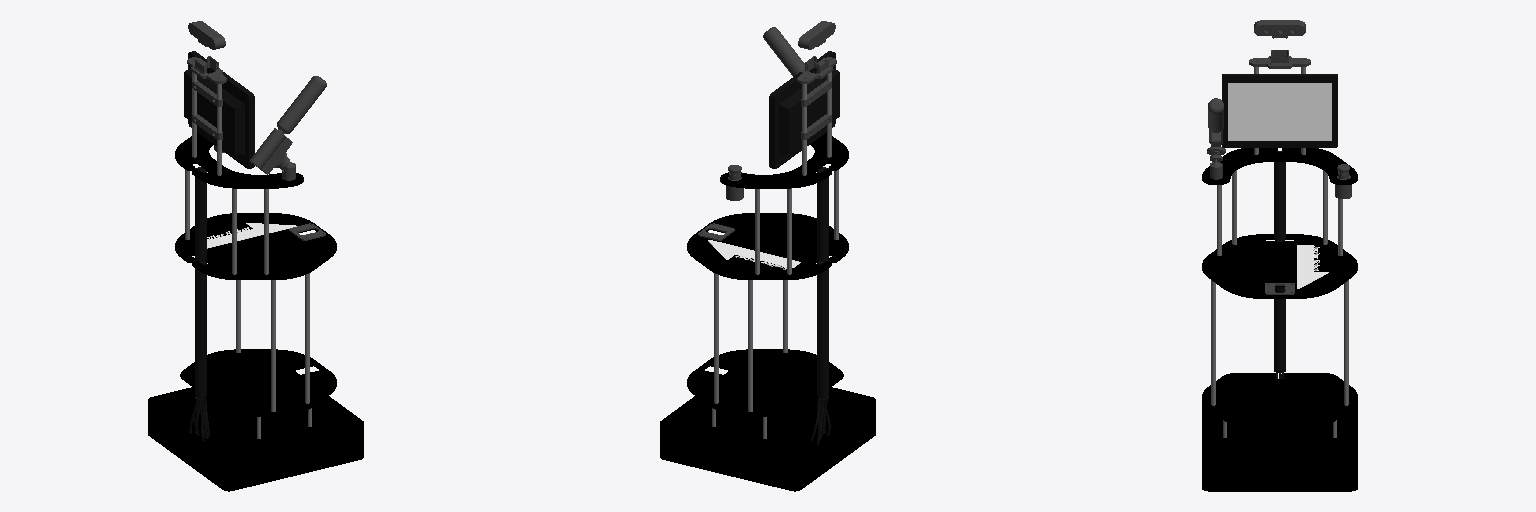
--- Facts derived from the render (not from the file) ---
Views: 3 orthographic renders of the robot side by side, from view 1: azimuth 30°, elevation 25°; view 2: azimuth 150°, elevation 25°; view 3: azimuth 270°, elevation 25°.
Robot: jupiter2_pro — 75 links, 74 joints (7 revolute, 2 continuous, 65 fixed); root link base_footprint; default pose: all joints at 0.
Links seen in each view (by area): view 1: base_link, plate_1_link, plate_2_link, monitor_link, mic_link, plate_3_link, pipe_300_link, pipe_200_link, arrow_link, pole_300_2_link, camera_link, pole_300_3_link (+2 smaller); view 2: base_link, plate_1_link, plate_2_link, monitor_link, plate_3_link, pipe_300_link, pipe_200_link, mic_link, arrow_link, pole_300_1_link, camera_link, pole_300_0_link (+1 smaller); view 3: base_link, plate_1_link, plate_2_link, screen_link, monitor_link, plate_3_link, mic_link, pipe_200_link, pipe_300_link, arrow_link, camera_link, head_mount_link (+2 smaller).
Boxes of the visible links, x1,y1,x2,y2 form: base_link: (148, 371, 363, 491); plate_1_link: (180, 349, 336, 416); plate_2_link: (175, 213, 336, 279); monitor_link: (184, 51, 254, 168); mic_link: (250, 76, 326, 180); plate_3_link: (175, 132, 303, 188); pipe_300_link: (195, 260, 206, 397); pipe_200_link: (195, 167, 206, 260); arrow_link: (207, 223, 296, 248); pole_300_2_link: (271, 280, 275, 411); camera_link: (188, 21, 225, 49); pole_300_3_link: (305, 273, 309, 403); base_link: (660, 371, 875, 491); plate_1_link: (687, 349, 843, 416); plate_2_link: (687, 213, 848, 279); monitor_link: (769, 51, 839, 168); plate_3_link: (720, 132, 848, 188); pipe_300_link: (817, 260, 828, 397); pipe_200_link: (817, 167, 828, 260); mic_link: (763, 27, 804, 76); arrow_link: (708, 240, 800, 269); pole_300_1_link: (748, 280, 752, 411); camera_link: (798, 21, 835, 49); pole_300_0_link: (714, 273, 718, 403); base_link: (1202, 402, 1357, 491); plate_1_link: (1202, 373, 1357, 429); plate_2_link: (1202, 234, 1357, 298); screen_link: (1228, 83, 1331, 140); monitor_link: (1222, 74, 1337, 147); plate_3_link: (1202, 148, 1357, 184); mic_link: (1207, 98, 1225, 179); pipe_200_link: (1274, 151, 1285, 241); pipe_300_link: (1274, 287, 1285, 372); arrow_link: (1297, 245, 1328, 288); camera_link: (1254, 20, 1305, 38); head_mount_link: (1249, 50, 1310, 68).
Size in the robot's own frame: 0.331 by 0.33 by 0.976 metres.
Meshes: 35 distinct files referenced, 37 mesh visuals loaded (22 binary STL); not drawn: 28 (reference not matched to a file when rendering).

URDF robot description (jupiter2_pro):
<?xml version="1.0" ?>
<!-- =================================================================================== -->
<!-- |    This document was autogenerated by xacro from [local-path]/catkin_ws/src/jupiterobot2/jupiterobot2_description/urdf/jupiter2_pro.urdf.xacro | -->
<!-- |    EDITING THIS FILE BY HAND IS NOT RECOMMENDED                                 | -->
<!-- =================================================================================== -->
<robot name="jupiter2_pro">
    <!-- Init colour -->
    <material name="Black">
        <color rgba="0.0 0.0 0.0 1.0" />
    </material>
    <material name="FlatBlack">
        <color rgba="0.1 0.1 0.1 1.0" />
    </material>
    <material name="DarkGrey">
        <color rgba="0.3 0.3 0.3 1.0" />
    </material>
    <material name="Grey">
        <color rgba="0.5 0.5 0.5 1.0" />
    </material>
    <material name="Red">
        <color rgba="0.8 0.0 0.0 1.0" />
    </material>
    <material name="Green">
        <color rgba="0.0 0.8 0.0 1.0" />
    </material>
    <material name="Blue">
        <color rgba="0.0 0.0 0.8 1.0" />
    </material>
    <material name="White">
        <color rgba="1.0 1.0 1.0 1.0" />
    </material>
    <gazebo reference="base_link">
        <material>Gazebo/Black</material>
        <plugin name="gazebo_ros_control">
            <robotNamespace>/</robotNamespace>
        </plugin>
    </gazebo>
    <gazebo reference="wheel_left_link">
        <mu1>1</mu1>
        <mu2>1</mu2>
        <kp>1e6</kp>
        <kd>1e3</kd>
        <minDepth>0.001</minDepth>
        <maxVel>1</maxVel>
        <material>Gazebo/FlatBlack</material>
    </gazebo>
    <gazebo reference="wheel_right_link">
        <mu1>1</mu1>
        <mu2>1</mu2>
        <kp>1e6</kp>
        <kd>1e3</kd>
        <minDepth>0.001</minDepth>
        <maxVel>1</maxVel>
        <material>Gazebo/FlatBlack</material>
    </gazebo>
    <gazebo reference="caster_back_right_link">
        <mu1>0.01</mu1>
        <mu2>0.01</mu2>
        <kp>1e6</kp>
        <kd>1e3</kd>
        <minDepth>0.001</minDepth>
        <maxVel>1</maxVel>
        <material>Gazebo/Grey</material>
    </gazebo>
    <gazebo reference="caster_back_left_link">
        <mu1>0.01</mu1>
        <mu2>0.01</mu2>
        <kp>1e6</kp>
        <kd>1e3</kd>
        <minDepth>0.001</minDepth>
        <maxVel>1</maxVel>
        <material>Gazebo/Grey</material>
    </gazebo>
    <gazebo reference="imu_link">
        <sensor name="imu" type="imu">
            <always_on>true</always_on>
            <visualize>false</visualize>
        </sensor>
        <material>Gazebo/Grey</material>
    </gazebo>
    <gazebo reference="plate_1_link">
        <material>Gazebo/Black</material>
    </gazebo>
    <gazebo reference="plate_2_link">
        <material>Gazebo/Black</material>
    </gazebo>
    <gazebo reference="plate_3_link">
        <material>Gazebo/Black</material>
    </gazebo>
    <gazebo reference="arrow_link">
        <material>Gazebo/White</material>
    </gazebo>
    <gazebo reference="mic_link">
        <material>Gazebo/DarkGrey</material>
    </gazebo>
    <gazebo reference="estop_link">
        <material>Gazebo/DarkGrey</material>
    </gazebo>
    <gazebo reference="monitor_frame_1_link">
        <material>Gazebo/DarkGrey</material>
    </gazebo>
    <gazebo reference="monitor_frame_2_link">
        <material>Gazebo/DarkGrey</material>
    </gazebo>
    <gazebo reference="monitor_link">
        <material>Gazebo/FlatBlack</material>
    </gazebo>
    <gazebo reference="screen_link">
        <material>Gazebo/WhiteGlow</material>
    </gazebo>
    <gazebo reference="arm_mount_link">
        <material>Gazebo/DarkGrey</material>
    </gazebo>
    <gazebo reference="head_mount_link">
        <material>Gazebo/DarkGrey</material>
    </gazebo>
    <gazebo reference="pipe_200_link">
        <material>Gazebo/BlackTransparent</material>
    </gazebo>
    <gazebo reference="pipe_300_link">
        <material>Gazebo/BlackTransparent</material>
    </gazebo>
    <gazebo reference="cables_link">
        <material>Gazebo/BlackTransparent</material>
    </gazebo>
    <gazebo>
        <plugin filename="libgazebo_ros_diff_drive.so" name="jupiter2_controller">
            <commandTopic>cmd_vel</commandTopic>
            <odometryTopic>odom</odometryTopic>
            <odometryFrame>odom</odometryFrame>
            <odometrySource>world</odometrySource>
            <publishOdomTF>true</publishOdomTF>
            <robotBaseFrame>base_footprint</robotBaseFrame>
            <publishWheelTF>false</publishWheelTF>
            <publishTf>true</publishTf>
            <publishWheelJointState>true</publishWheelJointState>
            <legacyMode>false</legacyMode>
            <updateRate>30</updateRate>
            <leftJoint>wheel_left_joint</leftJoint>
            <rightJoint>wheel_right_joint</rightJoint>
            <wheelSeparation>0.287</wheelSeparation>
            <wheelDiameter>0.066</wheelDiameter>
            <wheelAcceleration>1</wheelAcceleration>
            <wheelTorque>10</wheelTorque>
            <rosDebugLevel>na</rosDebugLevel>
        </plugin>
    </gazebo>
    <gazebo>
        <plugin filename="libgazebo_ros_imu.so" name="imu_plugin">
            <alwaysOn>true</alwaysOn>
            <bodyName>imu_link</bodyName>
            <frameName>imu_link</frameName>
            <topicName>imu</topicName>
            <serviceName>imu_service</serviceName>
            <gaussianNoise>0.0</gaussianNoise>
            <updateRate>0</updateRate>
            <imu>
                <noise>
                    <type>gaussian</type>
                    <rate>
                        <mean>0.0</mean>
                        <stddev>2e-4</stddev>
                        <bias_mean>0.0000075</bias_mean>
                        <bias_stddev>0.0000008</bias_stddev>
                    </rate>
                    <accel>
                        <mean>0.0</mean>
                        <stddev>1.7e-2</stddev>
                        <bias_mean>0.1</bias_mean>
                        <bias_stddev>0.001</bias_stddev>
                    </accel>
                </noise>
            </imu>
        </plugin>
    </gazebo>
    <gazebo reference="base_scan">
        <material>Gazebo/FlatBlack</material>
        <sensor name="rplidar_a1_sensor" type="ray">
            <pose>0 0 0 0 0 0</pose>
            <visualize>false</visualize>
            <update_rate>5.5</update_rate>
            <ray>
                <scan>
                    <horizontal>
                        <samples>360</samples>
                        <resolution>1</resolution>
                        <min_angle>-3.14159265359</min_angle>
                        <max_angle>3.14159265359</max_angle>
                    </horizontal>
                </scan>
                <range>
                    <min>0.18</min>
                    <max>6.0</max>
                    <resolution>0.01</resolution>
                </range>
                <noise>
                    <type>gaussian</type>
                    <mean>0.0</mean>
                    <stddev>0.01</stddev>
                </noise>
            </ray>
            <plugin filename="libgazebo_ros_laser.so" name="gazebo_ros_rplidar_a1_controller">
                <topicName>scan</topicName>
                <frameName>base_scan</frameName>
            </plugin>
        </sensor>
    </gazebo>
    <gazebo reference="camera_link">
        <sensor name="camera" type="depth">
            <always_on>true</always_on>
            <visualize>false</visualize>
            <update_rate>20.0</update_rate>
            <camera>
                <horizontal_fov>1.0472</horizontal_fov>
                <image>
                    <width>640</width>
                    <height>480</height>
                    <format>R8G8B8</format>
                </image>
                <depth_camera />
                <clip>
                    <near>0.05</near>
                    <far>8.0</far>
                </clip>
            </camera>
            <plugin filename="libgazebo_ros_openni_kinect.so" name="camera_controller">
                <baseline>0.1</baseline>
                <alwaysOn>true</alwaysOn>
                <updateRate>20.0</updateRate>
                <cameraName>camera</cameraName>
                <frameName>camera_depth_optical_frame</frameName>
                <imageTopicName>color/image_raw</imageTopicName>
                <depthImageTopicName>depth/image_raw</depthImageTopicName>
                <pointCloudTopicName>depth/points</pointCloudTopicName>
                <cameraInfoTopicName>color/camera_info</cameraInfoTopicName>
                <depthImageCameraInfoTopicName>depth/camera_info</depthImageCameraInfoTopicName>
                <pointCloudCutoff>0.4</pointCloudCutoff>
                <hackBaseline>0.07</hackBaseline>
                <distortionK1>0.0</distortionK1>
                <distortionK2>0.0</distortionK2>
                <distortionK3>0.0</distortionK3>
                <distortionT1>0.0</distortionT1>
                <distortionT2>0.0</distortionT2>
                <CxPrime>0.0</CxPrime>
                <Cx>0.0</Cx>
                <Cy>0.0</Cy>
                <focalLength>0</focalLength>
                <hackBaseline>0</hackBaseline>
            </plugin>
        </sensor>
    </gazebo>
    <joint name="head_base_joint" type="fixed">
        <origin xyz="0.0 0.0 0.076" />
        <parent link="head_mount_link" />
        <child link="head_base_link" />
    </joint>
    <link name="head_base_link" />
    <joint name="head_servo_joint" type="fixed">
        <origin rpy="0 0 0" xyz="0 0 -0.041499999999999995" />
        <parent link="head_base_link" />
        <child link="head_servo_link" />
    </joint>
    <link name="head_servo_link">
        <visual>
            <origin rpy="0 0 0" xyz="0 0 0" />
            <geometry>
                <mesh filename="package://jupiterobot2_head_description/meshes/ax12_box.stl" scale="0.001 0.001 0.001" />
            </geometry>
            <material name="Black" />
        </visual>
        <collision>
            <origin rpy="0 0 0" xyz="0.0 0.0 -0.01241" />
            <geometry>
                <box size="0.025 0.038 0.04762" />
            </geometry>
        </collision>
        <inertial>
            <origin xyz="0 0 0" rpy="0 0 0" />
            <mass value="0.055" />
            <inertia ixx="0.000017012" ixy="0.0" ixz="0.0" iyy="0.000013258" iyz="0.0" izz="0.000009483" />
        </inertial>
    </link>
    <gazebo reference="head_servo_link">
        <material>Gazebo/Black</material>
        <selfCollide>true</selfCollide>
        <gravity>true</gravity>
    </gazebo>
    <joint name="head_joint" type="revolute">
        <origin rpy="0 0 0" xyz="0 0 0" />
        <axis xyz="0 1 0" />
        <limit effort="30" lower="-1.5" upper="1.5" velocity="1.571" />
        <dynamics friction="0.13" />
        <parent link="head_servo_link" />
        <child link="head_link" />
    </joint>
    <link name="head_link">
        <visual>
            <origin rpy="0 0 0" xyz="0 0 0" />
            <geometry>
                <mesh filename="package://jupiterobot2_head_description/meshes/F2.stl" scale="0.001 0.001 0.001" />
            </geometry>
            <material name="White" />
        </visual>
        <collision>
            <origin rpy="0 0 0" xyz="0.0 0.0 0.00775" />
            <geometry>
                <box size="0.025 0.0485 0.0375" />
            </geometry>
        </collision>
        <inertial>
            <origin xyz="0 0 0.015" rpy="0 0 0" />
            <!--0.025*0.048*0.0375-->
            <mass value="0.0115" />
            <inertia ixx="3.55565625e-06" ixy="0.0" ixz="0.0" iyy="1.946614583e-06" iyz="0.0" izz="2.80695833e-06" />
        </inertial>
    </link>
    <gazebo reference="head_link">
        <material>Gazebo/White</material>
        <selfCollide>true</selfCollide>
        <gravity>true</gravity>
    </gazebo>
    <joint name="head_plate_joint" type="fixed">
        <origin rpy="0 3.14159265359 0" xyz="0 0 0.0265" />
        <parent link="head_link" />
        <child link="head_plate_link" />
    </joint>
    <link name="head_plate_link">
        <visual>
            <origin rpy="0 0 0" xyz="0 0 0" />
            <geometry>
                <mesh filename="package://jupiterobot2_head_description/meshes/F3.stl" scale="0.001 0.001 0.001" />
            </geometry>
            <material name="White" />
        </visual>
        <collision>
            <origin rpy="0 0 0" xyz="0.0 0.0 -0.0045" />
            <geometry>
                <box size="0.025 0.038 0.009" />
            </geometry>
        </collision>
        <inertial>
            <origin xyz="0 0 -0.004" rpy="0 0 0" />
            <!--0.025*0.038*0.008-->
            <mass value="0.005" />
            <inertia ixx="6.2833e-07" ixy="0.0" ixz="0.0" iyy="2.870833e-07" iyz="0.0" izz="8.620833e-07" />
        </inertial>
    </link>
    <gazebo reference="head_plate_link">
        <material>Gazebo/White</material>
        <selfCollide>true</selfCollide>
        <gravity>true</gravity>
    </gazebo>
    <joint name="camera_joint" type="fixed">
        <origin rpy="0 3.14159265359 0" xyz="-0.0125 0 -0.0215" />
        <parent link="head_plate_link" />
        <child link="camera_link" />
    </joint>
    <link name="camera_link">
        <visual>
            <origin rpy="0 0 0" xyz="0 0 0" />
            <geometry>
                <mesh filename="package://jupiterobot2_head_description/meshes/camera.stl" scale="0.001 0.001 0.001" />
            </geometry>
            <material name="DarkGrey" />
        </visual>
        <collision>
            <origin rpy="0 0 0" xyz="-0.0125 0 0" />
            <geometry>
                <box size="0.025 0.109 0.025" />
            </geometry>
        </collision>
        <inertial>
            <origin rpy="0 0 0" xyz="-0.0125 0 0" />
            <mass value="0.06" />
            <inertia ixx="6.253e-05" ixy="0.0" ixz="0.0" iyy="6.25e-06" iyz="0.0" izz="6.253e-05" />
        </inertial>
    </link>
    <gazebo reference="camera_link">
        <material>Gazebo/DarkGrey</material>
        <selfCollide>true</selfCollide>
        <gravity>true</gravity>
    </gazebo>
    <joint name="camera_color_joint" type="fixed">
        <origin rpy="0 0 0" xyz="0.0 -0.009 0.0" />
        <parent link="camera_link" />
        <child link="camera_color_frame" />
    </joint>
    <link name="camera_color_frame" />
    <joint name="camera_color_optical_joint" type="fixed">
        <origin rpy="-1.570796326795 0 -1.570796326795" xyz="0 0 0" />
        <parent link="camera_color_frame" />
        <child link="camera_color_optical_frame" />
    </joint>
    <link name="camera_color_optical_frame" />
    <joint name="camera_depth_joint" type="fixed">
        <origin rpy="0 0 0" xyz="0.0 -0.008 0.0" />
        <parent link="camera_link" />
        <child link="camera_depth_frame" />
    </joint>
    <link name="camera_depth_frame" />
    <joint name="camera_depth_optical_joint" type="fixed">
        <origin rpy="-1.570796326795 0 -1.570796326795" xyz="0 0 0" />
        <parent link="camera_depth_frame" />
        <child link="camera_depth_optical_frame" />
    </joint>
    <link name="camera_depth_optical_frame" />
    <transmission name="tran6">
        <type>transmission_interface/SimpleTransmission</type>
        <joint name="head_joint">
            <hardwareInterface>hardware_interface/PositionJointInterface</hardwareInterface>
        </joint>
        <actuator name="motor6">
            <hardwareInterface>hardware_interface/PositionJointInterface</hardwareInterface>
            <mechanicalReduction>1</mechanicalReduction>
        </actuator>
    </transmission>
    <!-- ros_control plugin -->
    <!-- <gazebo>
    <plugin name="gazebo_ros_control" filename="libgazebo_ros_control.so">
      <controlPeriod>0.001</controlPeriod>
      <robotNamespace>/</robotNamespace>
      <robotSimType>gazebo_ros_control/DefaultRobotHWSim</robotSimType>
      <legacyModeNS>true</legacyModeNS>
    </plugin>
  </gazebo> -->
    <!-- As we don't have here a robot base, add a base_link link as its location reference -->
    <!--link name="arm_mount_link"/-->
    <link name="arm_base_link" />
    <joint name="arm_base_joint" type="fixed">
        <origin xyz="0.0 0.0 -0.015" />
        <parent link="arm_mount_link" />
        <child link="arm_base_link" />
    </joint>
    <joint name="arm1_servo_joint" type="fixed">
        <origin rpy="1.570796326795 0 1.570796326795" xyz="0 0 0" />
        <parent link="arm_base_link" />
        <child link="arm1_servo_link" />
    </joint>
    <link name="arm1_servo_link">
        <visual>
            <origin rpy="0 0 0" xyz="0 0 0" />
            <geometry>
                <mesh filename="package://jupiterobot2_arm_description/meshes/ax12_box.stl" scale="0.001 0.001 0.001" />
            </geometry>
            <material name="Black" />
        </visual>
        <collision>
            <origin rpy="0 0 0" xyz="0.0 0.0 -0.01241" />
            <geometry>
                <box size="0.025 0.038 0.04762" />
            </geometry>
        </collision>
        <inertial>
            <origin xyz="0 0 0" rpy="0 0 0" />
            <mass value="0.055" />
            <inertia ixx="0.000017012" ixy="0.0" ixz="0.0" iyy="0.000013258" iyz="0.0" izz="0.000009483" />
        </inertial>
    </link>
    <gazebo reference="arm1_servo_link">
        <material>Gazebo/Black</material>
        <selfCollide>true</selfCollide>
        <gravity>true</gravity>
    </gazebo>
    <joint name="arm1_joint" type="revolute">
        <origin rpy="-1.570796326795 1.570796326795 3.14159265359" xyz="0 0.019 0" />
        <axis xyz="0 0 -1" />
        <limit effort="30" lower="-2.617" upper="2.617" velocity="1.571" />
        <dynamics friction="0.13" />
        <parent link="arm1_servo_link" />
        <child link="arm1_link" />
    </joint>
    <link name="arm1_link">
        <visual>
            <origin rpy="0 0 0" xyz="0 0 0" />
            <geometry>
                <mesh filename="package://jupiterobot2_arm_description/meshes/F3.stl" scale="0.001 0.001 0.001" />
            </geometry>
            <material name="White" />
        </visual>
        <collision>
            <origin rpy="0 0 0" xyz="0.0 0.0 -0.0045" />
            <geometry>
                <box size="0.025 0.038 0.009" />
            </geometry>
        </collision>
        <inertial>
            <origin xyz="0 0 -0.004" rpy="0 0 0" />
            <!--0.025*0.038*0.008-->
            <mass value="0.005" />
            <inertia ixx="6.2833e-07" ixy="0.0" ixz="0.0" iyy="2.870833e-07" iyz="0.0" izz="8.620833e-07" />
        </inertial>
    </link>
    <gazebo reference="arm1_link">
        <material>Gazebo/White</material>
        <selfCollide>true</selfCollide>
        <gravity>true</gravity>
    </gazebo>
    <joint name="arm2_servo_joint" type="fixed">
        <origin rpy="0 3.14159265359 0" xyz="0 0 -0.041499999999999995" />
        <parent link="arm1_link" />
        <child link="arm2_servo_link" />
    </joint>
    <link name="arm2_servo_link">
        <visual>
            <origin rpy="0 0 0" xyz="0 0 0" />
            <geometry>
                <mesh filename="package://jupiterobot2_arm_description/meshes/ax12_box.stl" scale="0.001 0.001 0.001" />
            </geometry>
            <material name="Black" />
        </visual>
        <collision>
            <origin rpy="0 0 0" xyz="0.0 0.0 -0.01241" />
            <geometry>
                <box size="0.025 0.038 0.04762" />
            </geometry>
        </collision>
        <inertial>
            <origin xyz="0 0 0" rpy="0 0 0" />
            <mass value="0.055" />
            <inertia ixx="0.000017012" ixy="0.0" ixz="0.0" iyy="0.000013258" iyz="0.0" izz="0.000009483" />
        </inertial>
    </link>
    <gazebo reference="arm2_servo_link">
        <material>Gazebo/Black</material>
        <selfCollide>true</selfCollide>
        <gravity>true</gravity>
    </gazebo>
    <joint name="arm2_joint" type="revolute">
        <origin rpy="0 0 0" xyz="0 0 0" />
        <axis xyz="0 1 0" />
        <limit effort="30" lower="-2.617" upper="2.617" velocity="1.571" />
        <dynamics friction="0.13" />
        <parent link="arm2_servo_link" />
        <child link="arm2_link" />
    </joint>
    <link name="arm2_link">
        <visual>
            <origin rpy="0 0 0" xyz="0 0 0" />
            <geometry>
                <mesh filename="package://jupiterobot2_arm_description/meshes/F4.stl" scale="0.001 0.001 0.001" />
            </geometry>
            <material name="White" />
        </visual>
        <collision>
            <origin rpy="0 0 0" xyz="0.0 0.0 0.0215" />
            <geometry>
                <box size="0.028 0.0485 0.065" />
            </geometry>
        </collision>
        <inertial>
            <origin xyz="0 0 0.03" rpy="0 0 0" />
            <!--0.028*0.048*0.0635-->
            <mass value="0.019" />
            <inertia ixx="1.003239583e-05" ixy="0.0" ixz="0.0" iyy="7.625729167e-06" iyz="0.0" izz="4.88933e-06" />
        </inertial>
    </link>
    <gazebo reference="arm2_link">
        <material>Gazebo/White</material>
        <selfCollide>true</selfCollide>
        <gravity>true</gravity>
    </gazebo>
    <joint name="arm2_F10_1_joint" type="fixed">
        <origin rpy="0 0 0" xyz="0 0 0.0545" />
        <parent link="arm2_link" />
        <child link="arm2_F10_1_link" />
    </joint>
    <link name="arm2_F10_1_link">
        <visual>
            <origin rpy="0 0 0" xyz="0 0 0" />
            <geometry>
                <mesh filename="package://jupiterobot2_arm_description/meshes/F10.stl" scale="0.001 0.001 0.001" />
            </geometry>
            <material name="White" />
        </visual>
        <collision>
            <origin rpy="0 0 0" xyz="0.0 0.0 0.0" />
            <geometry>
                <box size="0.025 0.038 0.004" />
            </geometry>
        </collision>
        <inertial>
            <origin xyz="0 0 0" rpy="0 0 0" />
            <!--0.025*0.038*0.004-->
            <mass value="0.0033" />
            <inertia ixx="4.015e-07" ixy="0.0" ixz="0.0" iyy="1.76275e-07" iyz="0.0" izz="5.68975e-07" />
        </inertial>
    </link>
    <gazebo reference="arm2_F10_1_link">
        <material>Gazebo/White</material>
        <selfCollide>true</selfCollide>
        <gravity>true</gravity>
    </gazebo>
    <joint name="arm2_F10_2_joint" type="fixed">
        <origin rpy="0 0 0" xyz="0 0 0.004" />
        <parent link="arm2_F10_1_link" />
        <child link="arm2_F10_2_link" />
    </joint>
    <link name="arm2_F10_2_link">
        <visual>
            <origin rpy="0 0 0" xyz="0 0 0" />
            <geometry>
                <mesh filename="package://jupiterobot2_arm_description/meshes/F10.stl" scale="0.001 0.001 0.001" />
            </geometry>
            <material name="White" />
        </visual>
        <collision>
            <origin rpy="0 0 0" xyz="0.0 0.0 0.0" />
            <geometry>
                <box size="0.025 0.038 0.004" />
            </geometry>
        </collision>
        <inertial>
            <origin xyz="0 0 0" rpy="0 0 0" />
            <!--0.025*0.038*0.004-->
            <mass value="0.0033" />
            <inertia ixx="4.015e-07" ixy="0.0" ixz="0.0" iyy="1.76275e-07" iyz="0.0" izz="5.68975e-07" />
        </inertial>
    </link>
    <gazebo reference="arm2_F10_2_link">
        <material>Gazebo/White</material>
        <selfCollide>true</selfCollide>
        <gravity>true</gravity>
    </gazebo>
    <joint name="arm2_F10_3_joint" type="fixed">
        <origin rpy="0 0 0" xyz="0 0 0.004" />
        <parent link="arm2_F10_2_link" />
        <child link="arm2_F10_3_link" />
    </joint>
    <link name="arm2_F10_3_link">
        <visual>
            <origin rpy="0 0 0" xyz="0 0 0" />
            <geometry>
                <mesh filename="package://jupiterobot2_arm_description/meshes/F10.stl" scale="0.001 0.001 0.001" />
            </geometry>
            <material name="White" />
        </visual>
        <collision>
            <origin rpy="0 0 0" xyz="0.0 0.0 0.0" />
            <geometry>
                <box size="0.025 0.038 0.004" />
            </geometry>
        </collision>
        <inertial>
            <origin xyz="0 0 0" rpy="0 0 0" />
            <!--0.025*0.038*0.004-->
            <mass value="0.0033" />
            <inertia ixx="4.015e-07" ixy="0.0" ixz="0.0" iyy="1.76275e-07" iyz="0.0" izz="5.68975e-07" />
        </inertial>
    </link>
    <gazebo reference="arm2_F10_3_link">
        <material>Gazebo/White</material>
        <selfCollide>true</selfCollide>
        <gravity>true</gravity>
    </gazebo>
    <joint name="arm2_F3_joint" type="fixed">
        <origin rpy="0 3.14159265359 0" xyz="0 0 0.002" />
        <parent link="arm2_F10_3_link" />
        <child link="arm2_F3_link" />
    </joint>
    <link name="arm2_F3_link">
        <visual>
            <origin rpy="0 0 0" xyz="0 0 0" />
            <geometry>
                <mesh filename="package://jupiterobot2_arm_description/meshes/F3.stl" scale="0.001 0.001 0.001" />
            </geometry>
            <material name="White" />
        </visual>
        <collision>
            <origin rpy="0 0 0" xyz="0.0 0.0 -0.0045" />
            <geometry>
                <box size="0.025 0.038 0.009" />
            </geometry>
        </collision>
        <inertial>
            <origin xyz="0 0 -0.004" rpy="0 0 0" />
            <!--0.025*0.038*0.008-->
            <mass value="0.005" />
            <inertia ixx="6.2833e-07" ixy="0.0" ixz="0.0" iyy="2.870833e-07" iyz="0.0" izz="8.620833e-07" />
        </inertial>
    </link>
    <gazebo reference="arm2_F3_link">
        <material>Gazebo/White</material>
        <selfCollide>true</selfCollide>
        <gravity>true</gravity>
    </gazebo>
    <joint name="arm3_servo_joint" type="fixed">
        <origin rpy="0 3.14159265359 0" xyz="0 0 -0.041499999999999995" />
        <parent link="arm2_F3_link" />
        <child link="arm3_servo_link" />
    </joint>
    <link name="arm3_servo_link">
        <visual>
            <origin rpy="0 0 0" xyz="0 0 0" />
            <geometry>
                <mesh filename="package://jupiterobot2_arm_description/meshes/ax12_box.stl" scale="0.001 0.001 0.001" />
            </geometry>
            <material name="Black" />
        </visual>
        <collision>
            <origin rpy="0 0 0" xyz="0.0 0.0 -0.01241" />
            <geometry>
                <box size="0.025 0.038 0.04762" />
            </geometry>
        </collision>
        <inertial>
            <origin xyz="0 0 0" rpy="0 0 0" />
            <mass value="0.055" />
            <inertia ixx="0.000017012" ixy="0.0" ixz="0.0" iyy="0.000013258" iyz="0.0" izz="0.000009483" />
        </inertial>
    </link>
    <gazebo reference="arm3_servo_link">
        <material>Gazebo/Black</material>
        <selfCollide>true</selfCollide>
        <gravity>true</gravity>
    </gazebo>
    <joint name="arm3_joint" type="revolute">
        <origin rpy="0 0 0" xyz="0 0 0" />
        <axis xyz="0 1 0" />
        <limit effort="30" lower="-2.617" upper="2.617" velocity="1.571" />
        <dynamics friction="0.13" />
        <parent link="arm3_servo_link" />
        <child link="arm3_link" />
    </joint>
    <link name="arm3_link">
        <visual>
            <origin rpy="0 0 0" xyz="0 0 0" />
            <geometry>
                <mesh filename="package://jupiterobot2_arm_description/meshes/F4.stl" scale="0.001 0.001 0.001" />
            </geometry>
            <material name="White" />
        </visual>
        <collision>
            <origin rpy="0 0 0" xyz="0.0 0.0 0.0215" />
            <geometry>
                <box size="0.028 0.0485 0.065" />
            </geometry>
        </collision>
        <inertial>
            <origin xyz="0 0 0.03" rpy="0 0 0" />
            <!--0.028*0.048*0.0635-->
            <mass value="0.019" />
            <inertia ixx="1.003239583e-05" ixy="0.0" ixz="0.0" iyy="7.625729167e-06" iyz="0.0" izz="4.88933e-06" />
        </inertial>
    </link>
    <gazebo reference="arm3_link">
        <material>Gazebo/White</material>
        <selfCollide>true</selfCollide>
        <gravity>true</gravity>
    </gazebo>
    <joint name="arm3_F10_1_joint" type="fixed">
        <origin rpy="0 0 0" xyz="0 0 0.0545" />
        <parent link="arm3_link" />
        <child link="arm3_F10_1_link" />
    </joint>
    <link name="arm3_F10_1_link">
        <visual>
            <origin rpy="0 0 0" xyz="0 0 0" />
            <geometry>
                <mesh filename="package://jupiterobot2_arm_description/meshes/F10.stl" scale="0.001 0.001 0.001" />
            </geometry>
            <material name="White" />
        </visual>
        <collision>
            <origin rpy="0 0 0" xyz="0.0 0.0 0.0" />
            <geometry>
                <box size="0.025 0.038 0.004" />
            </geometry>
        </collision>
        <inertial>
            <origin xyz="0 0 0" rpy="0 0 0" />
            <!--0.025*0.038*0.004-->
            <mass value="0.0033" />
            <inertia ixx="4.015e-07" ixy="0.0" ixz="0.0" iyy="1.76275e-07" iyz="0.0" izz="5.68975e-07" />
        </inertial>
    </link>
    <gazebo reference="arm3_F10_1_link">
        <material>Gazebo/White</material>
        <selfCollide>true</selfCollide>
        <gravity>true</gravity>
    </gazebo>
    <joint name="arm3_F10_2_joint" type="fixed">
        <origin rpy="0 0 0" xyz="0 0 0.004" />
        <parent link="arm3_F10_1_link" />
        <child link="arm3_F10_2_link" />
    </joint>
    <link name="arm3_F10_2_link">
        <visual>
            <origin rpy="0 0 0" xyz="0 0 0" />
            <geometry>
                <mesh filename="package://jupiterobot2_arm_description/meshes/F10.stl" scale="0.001 0.001 0.001" />
            </geometry>
            <material name="White" />
        </visual>
        <collision>
            <origin rpy="0 0 0" xyz="0.0 0.0 0.0" />
            <geometry>
                <box size="0.025 0.038 0.004" />
            </geometry>
        </collision>
        <inertial>
            <origin xyz="0 0 0" rpy="0 0 0" />
            <!--0.025*0.038*0.004-->
            <mass value="0.0033" />
            <inertia ixx="4.015e-07" ixy="0.0" ixz="0.0" iyy="1.76275e-07" iyz="0.0" izz="5.68975e-07" />
        </inertial>
    </link>
    <gazebo reference="arm3_F10_2_link">
        <material>Gazebo/White</material>
        <selfCollide>true</selfCollide>
        <gravity>true</gravity>
    </gazebo>
    <joint name="arm3_F10_3_joint" type="fixed">
        <origin rpy="0 0 0" xyz="0 0 0.004" />
        <parent link="arm3_F10_2_link" />
        <child link="arm3_F10_3_link" />
    </joint>
    <link name="arm3_F10_3_link">
        <visual>
            <origin rpy="0 0 0" xyz="0 0 0" />
            <geometry>
                <mesh filename="package://jupiterobot2_arm_description/meshes/F10.stl" scale="0.001 0.001 0.001" />
            </geometry>
            <material name="White" />
        </visual>
        <collision>
            <origin rpy="0 0 0" xyz="0.0 0.0 0.0" />
            <geometry>
                <box size="0.025 0.038 0.004" />
            </geometry>
        </collision>
        <inertial>
            <origin xyz="0 0 0" rpy="0 0 0" />
            <!--0.025*0.038*0.004-->
            <mass value="0.0033" />
            <inertia ixx="4.015e-07" ixy="0.0" ixz="0.0" iyy="1.76275e-07" iyz="0.0" izz="5.68975e-07" />
        </inertial>
    </link>
    <gazebo reference="arm3_F10_3_link">
        <material>Gazebo/White</material>
        <selfCollide>true</selfCollide>
        <gravity>true</gravity>
    </gazebo>
    <joint name="arm3_F3_joint" type="fixed">
        <origin rpy="0 3.14159265359 0" xyz="0 0 0.002" />
        <parent link="arm3_F10_3_link" />
        <child link="arm3_F3_link" />
    </joint>
    <link name="arm3_F3_link">
        <visual>
            <origin rpy="0 0 0" xyz="0 0 0" />
            <geometry>
                <mesh filename="package://jupiterobot2_arm_description/meshes/F3.stl" scale="0.001 0.001 0.001" />
            </geometry>
            <material name="White" />
        </visual>
        <collision>
            <origin rpy="0 0 0" xyz="0.0 0.0 -0.0045" />
            <geometry>
                <box size="0.025 0.038 0.009" />
            </geometry>
        </collision>
        <inertial>
            <origin xyz="0 0 -0.004" rpy="0 0 0" />
            <!--0.025*0.038*0.008-->
            <mass value="0.005" />
            <inertia ixx="6.2833e-07" ixy="0.0" ixz="0.0" iyy="2.870833e-07" iyz="0.0" izz="8.620833e-07" />
        </inertial>
    </link>
    <gazebo reference="arm3_F3_link">
        <material>Gazebo/White</material>
        <selfCollide>true</selfCollide>
        <gravity>true</gravity>
    </gazebo>
    <joint name="arm4_servo_joint" type="fixed">
        <origin rpy="0 3.14159265359 0" xyz="0 0 -0.041499999999999995" />
        <parent link="arm3_F3_link" />
        <child link="arm4_servo_link" />
    </joint>
    <link name="arm4_servo_link">
        <visual>
            <origin rpy="0 0 0" xyz="0 0 0" />
            <geometry>
                <mesh filename="package://jupiterobot2_arm_description/meshes/ax12_box.stl" scale="0.001 0.001 0.001" />
            </geometry>
            <material name="Black" />
        </visual>
        <collision>
            <origin rpy="0 0 0" xyz="0.0 0.0 -0.01241" />
            <geometry>
                <box size="0.025 0.038 0.04762" />
            </geometry>
        </collision>
        <inertial>
            <origin xyz="0 0 0" rpy="0 0 0" />
            <mass value="0.055" />
            <inertia ixx="0.000017012" ixy="0.0" ixz="0.0" iyy="0.000013258" iyz="0.0" izz="0.000009483" />
        </inertial>
    </link>
    <gazebo reference="arm4_servo_link">
        <material>Gazebo/Black</material>
        <selfCollide>true</selfCollide>
        <gravity>true</gravity>
    </gazebo>
    <joint name="arm4_joint" type="revolute">
        <origin rpy="0 0 0" xyz="0 0 0" />
        <axis xyz="0 1 0" />
        <limit effort="30" lower="-1.745" upper="1.745" velocity="1.571" />
        <dynamics friction="0.13" />
        <parent link="arm4_servo_link" />
        <child link="arm4_link" />
    </joint>
    <link name="arm4_link">
        <visual>
            <origin rpy="0 0 0" xyz="0 0 0" />
            <geometry>
                <mesh filename="package://jupiterobot2_arm_description/meshes/F2.stl" scale="0.001 0.001 0.001" />
            </geometry>
            <material name="White" />
        </visual>
        <collision>
            <origin rpy="0 0 0" xyz="0.0 0.0 0.00775" />
            <geometry>
                <box size="0.025 0.0485 0.0375" />
            </geometry>
        </collision>
        <inertial>
            <origin xyz="0 0 0.015" rpy="0 0 0" />
            <!--0.025*0.048*0.0375-->
            <mass value="0.0115" />
            <inertia ixx="3.55565625e-06" ixy="0.0" ixz="0.0" iyy="1.946614583e-06" iyz="0.0" izz="2.80695833e-06" />
        </inertial>
    </link>
    <gazebo reference="arm4_link">
        <material>Gazebo/White</material>
        <selfCollide>true</selfCollide>
        <gravity>true</gravity>
    </gazebo>
    <!-- fake gripper_link joint gives us a free servo!
         this makes us 5DOF and saves you $44.90
         that's a lot of coin! -->
    <link name="gripper_link" />
    <joint name="gripper_link_joint" type="revolute">
        <origin rpy="0 -1.57 0" xyz="0 0 0.112" />
        <parent link="arm4_link" />
        <child link="gripper_link" />
        <limit effort="30" lower="-3.14" upper="3.14" velocity="1" />
        <axis xyz="1 0 0" />
    </joint>
    <joint name="arm4_F3_joint" type="fixed">
        <origin rpy="0 3.14159265359 -1.570796326795" xyz="0 0.016 0.0265" />
        <parent link="arm4_link" />
        <child link="arm4_F3_link" />
    </joint>
    <link name="arm4_F3_link">
        <visual>
            <origin rpy="0 0 0" xyz="0 0 0" />
            <geometry>
                <mesh filename="package://jupiterobot2_arm_description/meshes/F3.stl" scale="0.001 0.001 0.001" />
            </geometry>
            <material name="White" />
        </visual>
        <collision>
            <origin rpy="0 0 0" xyz="0.0 0.0 -0.0045" />
            <geometry>
                <box size="0.025 0.038 0.009" />
            </geometry>
        </collision>
        <inertial>
            <origin xyz="0 0 -0.004" rpy="0 0 0" />
            <!--0.025*0.038*0.008-->
            <mass value="0.005" />
            <inertia ixx="6.2833e-07" ixy="0.0" ixz="0.0" iyy="2.870833e-07" iyz="0.0" izz="8.620833e-07" />
        </inertial>
    </link>
    <gazebo reference="arm4_F3_link">
        <material>Gazebo/White</material>
        <selfCollide>true</selfCollide>
        <gravity>true</gravity>
    </gazebo>
    <joint name="gripper_servo_joint" type="fixed">
        <origin rpy="3.14159265359 1.570796326795 0" xyz="-0.02275 0 -0.019" />
        <parent link="arm4_F3_link" />
        <child link="gripper_servo_link" />
    </joint>
    <link name="gripper_servo_link">
        <visual>
            <origin rpy="0 0 0" xyz="0 0 0" />
            <geometry>
                <mesh filename="package://jupiterobot2_arm_description/meshes/ax12_box.stl" scale="0.001 0.001 0.001" />
            </geometry>
            <material name="Black" />
        </visual>
        <collision>
            <origin rpy="0 0 0" xyz="0.0 0.0 -0.01241" />
            <geometry>
                <box size="0.025 0.038 0.04762" />
            </geometry>
        </collision>
        <inertial>
            <origin xyz="0 0 0" rpy="0 0 0" />
            <mass value="0.055" />
            <inertia ixx="0.000017012" ixy="0.0" ixz="0.0" iyy="0.000013258" iyz="0.0" izz="0.000009483" />
        </inertial>
    </link>
    <gazebo reference="gripper_servo_link">
        <material>Gazebo/Black</material>
        <selfCollide>true</selfCollide>
        <gravity>true</gravity>
    </gazebo>
    <!-- finger 1 -->
    <joint name="gripper_joint" type="revolute">
        <origin rpy="0 0 0" xyz="0 0 0" />
        <axis xyz="0 1 0" />
        <limit effort="30" lower="-0.40" upper="0.46" velocity="0.785" />
        <parent link="gripper_servo_link" />
        <child link="gripper_active_link" />
    </joint>
    <link name="gripper_active_link">
        <inertial>
            <mass value="0.010" />
            <origin xyz="0 0 0" rpy="0 0 0" />
            <inertia ixx="0.000001" ixy="0.0" ixz="0.0" iyy="0.000001" iyz="0.0" izz="0.000001" />
        </inertial>
        <visual>
            <origin rpy="0 0 0" xyz="0 0 0" />
            <geometry>
                <mesh filename="package://jupiterobot2_arm_description/meshes/F2.stl" scale="0.001 0.001 0.001" />
            </geometry>
            <material name="White" />
        </visual>
        <collision>
            <origin rpy="0 0 0" xyz="0.0 0.0 0.00775" />
            <geometry>
                <box size="0.025 0.0485 0.0375" />
            </geometry>
        </collision>
    </link>
    <joint name="gripper_active_finger_joint" type="fixed">
        <origin rpy="3.14159265359 0 0" xyz="-0.013 0.017 0.0295" />
        <parent link="gripper_active_link" />
        <child link="gripper_active_finger_link" />
    </joint>
    <link name="gripper_active_finger_link">
        <visual>
            <origin rpy="0 0 0" xyz="0 0 0" />
            <geometry>
                <mesh filename="package://jupiterobot2_arm_description/meshes/finger_active.stl" scale="0.001 0.001 0.001" />
            </geometry>
            <material name="Black" />
        </visual>
        <collision>
            <origin rpy="0 0 0" xyz="0.0535 0.017 0.0105" />
            <geometry>
                <box size="0.107 0.034 0.021" />
            </geometry>
        </collision>
        <inertial>
            <origin rpy="0 0 0" xyz="0.0535 0.017 0.0105" />
            <mass value="0.009" />
            <inertia ixx="1.19775e-06" ixy="0" ixz="0" iyy="8.9175e-06" iyz="0" izz="9.45375e-06" />
        </inertial>
    </link>
    <gazebo reference="gripper_active_finger_link">
        <material>Gazebo/Black</material>
        <selfCollide>true</selfCollide>
        <gravity>true</gravity>
    </gazebo>
    <joint name="gripper_static_joint" type="fixed">
        <origin rpy="0 3.14159265359 0" xyz="0 0 -0.041499999999999995" />
        <parent link="gripper_servo_link" />
        <child link="gripper_static_link" />
    </joint>
    <link name="gripper_static_link">
        <visual>
            <origin rpy="0 0 0" xyz="0 0 0" />
            <geometry>
                <mesh filename="package://jupiterobot2_arm_description/meshes/F3.stl" scale="0.001 0.001 0.001" />
            </geometry>
            <material name="White" />
        </visual>
        <collision>
            <origin rpy="0 0 0" xyz="0.0 0.0 -0.0045" />
            <geometry>
                <box size="0.025 0.038 0.009" />
            </geometry>
        </collision>
        <inertial>
            <origin xyz="0 0 -0.004" rpy="0 0 0" />
            <!--0.025*0.038*0.008-->
            <mass value="0.005" />
            <inertia ixx="6.2833e-07" ixy="0.0" ixz="0.0" iyy="2.870833e-07" iyz="0.0" izz="8.620833e-07" />
        </inertial>
    </link>
    <gazebo reference="gripper_static_link">
        <material>Gazebo/White</material>
        <selfCollide>true</selfCollide>
        <gravity>true</gravity>
    </gazebo>
    <joint name="gripper_static_finger_joint" type="fixed">
        <origin rpy="0 0 3.14159265359" xyz="0.013 0.017 0" />
        <parent link="gripper_static_link" />
        <child link="gripper_static_finger_link" />
    </joint>
    <link name="gripper_static_finger_link">
        <visual>
            <origin rpy="0 0 0" xyz="0 0 0" />
            <geometry>
                <mesh filename="package://jupiterobot2_arm_description/meshes/finger_static.stl" scale="0.001 0.001 0.001" />
            </geometry>
            <material name="Black" />
        </visual>
        <collision>
            <origin rpy="0 0 0" xyz="0.045 0.017 0.0065" />
            <geometry>
                <box size="0.09 0.034 0.013" />
            </geometry>
        </collision>
        <inertial>
            <origin rpy="0 0 0" xyz="0.045 0.017 0.0065" />
            <mass value="0.0075" />
            <inertia ixx="8.28125e-07" ixy="0" ixz="0" iyy="5.168125e-06" iyz="0" izz="5.785e-06" />
        </inertial>
    </link>
    <gazebo reference="gripper_static_finger_link">
        <material>Gazebo/Black</material>
        <selfCollide>true</selfCollide>
        <gravity>true</gravity>
    </gazebo>
    <transmission name="tran1">
        <type>transmission_interface/SimpleTransmission</type>
        <joint name="arm1_joint">
            <hardwareInterface>hardware_interface/PositionJointInterface</hardwareInterface>
        </joint>
        <actuator name="motor1">
            <hardwareInterface>hardware_interface/PositionJointInterface</hardwareInterface>
            <mechanicalReduction>1</mechanicalReduction>
        </actuator>
    </transmission>
    <transmission name="tran2">
        <type>transmission_interface/SimpleTransmission</type>
        <joint name="arm2_joint">
            <hardwareInterface>hardware_interface/PositionJointInterface</hardwareInterface>
        </joint>
        <actuator name="motor2">
            <hardwareInterface>hardware_interface/PositionJointInterface</hardwareInterface>
            <mechanicalReduction>1</mechanicalReduction>
        </actuator>
    </transmission>
    <transmission name="tran3">
        <type>transmission_interface/SimpleTransmission</type>
        <joint name="arm3_joint">
            <hardwareInterface>hardware_interface/PositionJointInterface</hardwareInterface>
        </joint>
        <actuator name="motor3">
            <hardwareInterface>hardware_interface/PositionJointInterface</hardwareInterface>
            <mechanicalReduction>1</mechanicalReduction>
        </actuator>
    </transmission>
    <transmission name="tran4">
        <type>transmission_interface/SimpleTransmission</type>
        <joint name="arm4_joint">
            <hardwareInterface>hardware_interface/PositionJointInterface</hardwareInterface>
        </joint>
        <actuator name="motor4">
            <hardwareInterface>hardware_interface/PositionJointInterface</hardwareInterface>
            <mechanicalReduction>1</mechanicalReduction>
        </actuator>
    </transmission>
    <transmission name="tran5">
        <type>transmission_interface/SimpleTransmission</type>
        <joint name="gripper_joint">
            <hardwareInterface>hardware_interface/PositionJointInterface</hardwareInterface>
        </joint>
        <actuator name="motor5">
            <hardwareInterface>hardware_interface/PositionJointInterface</hardwareInterface>
            <mechanicalReduction>1</mechanicalReduction>
        </actuator>
    </transmission>
    <!-- ros_control plugin -->
    <gazebo>
        <plugin filename="libgazebo_ros_control.so" name="gazebo_ros_control">
            <controlPeriod>0.001</controlPeriod>
            <robotNamespace>/</robotNamespace>
            <robotSimType>gazebo_ros_control/DefaultRobotHWSim</robotSimType>
            <legacyModeNS>true</legacyModeNS>
        </plugin>
    </gazebo>
    <link name="base_footprint" />
    <joint name="base_joint" type="fixed">
        <parent link="base_footprint" />
        <child link="base_link" />
        <origin rpy="0 0 0" xyz="0 0 0.015" />
    </joint>
    <link name="base_link">
        <visual>
            <origin rpy="0 0 0" xyz="-0.089 0 0" />
            <geometry>
                <mesh filename="package://jupiterobot2_description/meshes/stacks/jupiter2_base.stl" scale="0.001 0.001 0.001" />
            </geometry>
            <material name="Black" />
        </visual>
        <collision>
            <origin rpy="0 0 0" xyz="-0.089 0 0.039" />
            <geometry>
                <box size="0.33 0.33 0.078" />
            </geometry>
        </collision>
        <inertial>
            <origin rpy="0 0 0" xyz="-0.089 0 0.039" />
            <mass value="4.6" />
            <inertia ixx="0.0440772" ixy="0" ixz="0" iyy="0.0440772" iyz="0" izz="0.08349" />
        </inertial>
    </link>
    <joint name="wheel_left_joint" type="continuous">
        <parent link="base_link" />
        <child link="wheel_left_link" />
        <origin rpy="-1.570796326795 0 0" xyz="0.0 0.144 0.018" />
        <axis xyz="0 0 1" />
    </joint>
    <link name="wheel_left_link">
        <visual>
            <origin rpy="1.570796326795 0 0" xyz="0 0 0" />
            <geometry>
                <mesh filename="package://jupiterobot2_description/meshes/wheels/left_tire.stl" scale="0.001 0.001 0.001" />
            </geometry>
            <material name="FlatBlack" />
        </visual>
        <collision>
            <origin rpy="0 0 0" xyz="0 0 0" />
            <geometry>
                <cylinder length="0.018" radius="0.033" />
            </geometry>
        </collision>
        <inertial>
            <origin xyz="0 0 0" rpy="0 0 0" />
            <mass value="0.03" />
            <inertia ixx="9e-06" ixy="0.0" ixz="0.0" iyy="9e-06" iyz="0.0" izz="1.64e-05" />
        </inertial>
    </link>
    <joint name="wheel_right_joint" type="continuous">
        <parent link="base_link" />
        <child link="wheel_right_link" />
        <origin rpy="-1.570796326795 0 0" xyz="0.0 -0.144 0.018" />
        <axis xyz="0 0 1" />
    </joint>
    <link name="wheel_right_link">
        <visual>
            <origin rpy="1.570796326795 0 0" xyz="0 0 0" />
            <geometry>
                <mesh filename="package://jupiterobot2_description/meshes/wheels/right_tire.stl" scale="0.001 0.001 0.001" />
            </geometry>
            <material name="FlatBlack" />
        </visual>
        <collision>
            <origin rpy="0 0 0" xyz="0 0 0" />
            <geometry>
                <cylinder length="0.018" radius="0.033" />
            </geometry>
        </collision>
        <inertial>
            <origin xyz="0 0 0" rpy="0 0 0" />
            <mass value="0.03" />
            <inertia ixx="9e-06" ixy="0.0" ixz="0.0" iyy="9e-06" iyz="0.0" izz="1.64e-05" />
        </inertial>
    </link>
    <joint name="caster_back_right_joint" type="fixed">
        <parent link="base_link" />
        <child link="caster_back_right_link" />
        <origin rpy="-1.570796326795 0 0" xyz="-0.177 -0.064 -0.0025" />
    </joint>
    <link name="caster_back_right_link">
        <visual>
            <origin rpy="0 0 0" xyz="0 0 0" />
            <geometry>
                <mesh filename="package://jupiterobot2_description/meshes/wheels/caster.stl" scale="0.001 0.001 0.001" />
            </geometry>
            <material name="Grey" />
        </visual>
        <collision>
            <origin rpy="0 0 0" xyz="0 0 0" />
            <geometry>
                <sphere radius="0.0125" />
            </geometry>
        </collision>
        <inertial>
            <origin xyz="0 0 0" rpy="0 0 0" />
            <mass value="0.065" />
            <!--2/5*m*r^2-->
            <inertia ixx="4.0625e-06" ixy="0.0" ixz="0.0" iyy="4.0625e-06" iyz="0.0" izz="4.0625e-06" />
        </inertial>
    </link>
    <joint name="caster_back_left_joint" type="fixed">
        <parent link="base_link" />
        <child link="caster_back_left_link" />
        <origin rpy="-1.570796326795 0 0" xyz="-0.177 0.064 -0.0025" />
    </joint>
    <link name="caster_back_left_link">
        <visual>
            <origin rpy="0 0 0" xyz="0 0 0" />
            <geometry>
                <mesh filename="package://jupiterobot2_description/meshes/wheels/caster.stl" scale="0.001 0.001 0.001" />
            </geometry>
            <material name="Grey" />
        </visual>
        <collision>
            <origin rpy="0 0 0" xyz="0 0 0" />
            <geometry>
                <sphere radius="0.0125" />
            </geometry>
        </collision>
        <inertial>
            <origin xyz="0 0 0" rpy="0 0 0" />
            <mass value="0.065" />
            <!--2/5*m*r^2-->
            <inertia ixx="4.0625e-06" ixy="0.0" ixz="0.0" iyy="4.0625e-06" iyz="0.0" izz="4.0625e-06" />
        </inertial>
    </link>
    <joint name="imu_joint" type="fixed">
        <parent link="base_link" />
        <child link="imu_link" />
        <origin rpy="3.14159265359 0 0" xyz="-0.091 -0.1055 0.0535" />
    </joint>
    <link name="imu_link" />
    <!-- base link for stacks -->
    <joint name="stack_joint" type="fixed">
        <parent link="base_link" />
        <child link="stack_link" />
        <origin rpy="0 0 0" xyz="-0.089 0 0" />
    </joint>
    <link name="stack_link" />
    <joint name="pole_60_0_joint" type="fixed">
        <parent link="stack_link" />
        <child link="pole_60_0_link" />
        <origin rpy="0 0 0" xyz="0.06 0.116 0.108" />
    </joint>
    <link name="pole_60_0_link">
        <visual>
            <origin rpy="0 0 0" xyz="0 0 0" />
            <geometry>
                <mesh filename="package://jupiterobot2_description/meshes/stacks/pole_60.stl" scale="0.001 0.001 0.001" />
            </geometry>
            <material name="Grey" />
        </visual>
        <collision>
            <origin rpy="0 0 0" xyz="0 0 0" />
            <geometry>
                <cylinder length="0.06" radius="0.005" />
            </geometry>
        </collision>
        <inertial>
            <origin xyz="0 0 0" rpy="0 0 0" />
            <mass value="0.0108" />
            <inertia ixx="3.3075e-06" ixy="0.0" ixz="0.0" iyy="3.3075e-06" iyz="0.0" izz="1.35e-07" />
        </inertial>
    </link>
    <joint name="pole_60_1_joint" type="fixed">
        <parent link="stack_link" />
        <child link="pole_60_1_link" />
        <origin rpy="0 0 0" xyz="-0.06 0.116 0.108" />
    </joint>
    <link name="pole_60_1_link">
        <visual>
            <origin rpy="0 0 0" xyz="0 0 0" />
            <geometry>
                <mesh filename="package://jupiterobot2_description/meshes/stacks/pole_60.stl" scale="0.001 0.001 0.001" />
            </geometry>
            <material name="Grey" />
        </visual>
        <collision>
            <origin rpy="0 0 0" xyz="0 0 0" />
            <geometry>
                <cylinder length="0.06" radius="0.005" />
            </geometry>
        </collision>
        <inertial>
            <origin xyz="0 0 0" rpy="0 0 0" />
            <mass value="0.0108" />
            <inertia ixx="3.3075e-06" ixy="0.0" ixz="0.0" iyy="3.3075e-06" iyz="0.0" izz="1.35e-07" />
        </inertial>
    </link>
    <joint name="pole_60_2_joint" type="fixed">
        <parent link="stack_link" />
        <child link="pole_60_2_link" />
        <origin rpy="0 0 0" xyz="-0.06 -0.116 0.108" />
    </joint>
    <link name="pole_60_2_link">
        <visual>
            <origin rpy="0 0 0" xyz="0 0 0" />
            <geometry>
                <mesh filename="package://jupiterobot2_description/meshes/stacks/pole_60.stl" scale="0.001 0.001 0.001" />
            </geometry>
            <material name="Grey" />
        </visual>
        <collision>
            <origin rpy="0 0 0" xyz="0 0 0" />
            <geometry>
                <cylinder length="0.06" radius="0.005" />
            </geometry>
        </collision>
        <inertial>
            <origin xyz="0 0 0" rpy="0 0 0" />
            <mass value="0.0108" />
            <inertia ixx="3.3075e-06" ixy="0.0" ixz="0.0" iyy="3.3075e-06" iyz="0.0" izz="1.35e-07" />
        </inertial>
    </link>
    <joint name="pole_60_3_joint" type="fixed">
        <parent link="stack_link" />
        <child link="pole_60_3_link" />
        <origin rpy="0 0 0" xyz="0.06 -0.116 0.108" />
    </joint>
    <link name="pole_60_3_link">
        <visual>
            <origin rpy="0 0 0" xyz="0 0 0" />
            <geometry>
                <mesh filename="package://jupiterobot2_description/meshes/stacks/pole_60.stl" scale="0.001 0.001 0.001" />
            </geometry>
            <material name="Grey" />
        </visual>
        <collision>
            <origin rpy="0 0 0" xyz="0 0 0" />
            <geometry>
                <cylinder length="0.06" radius="0.005" />
            </geometry>
        </collision>
        <inertial>
            <origin xyz="0 0 0" rpy="0 0 0" />
            <mass value="0.0108" />
            <inertia ixx="3.3075e-06" ixy="0.0" ixz="0.0" iyy="3.3075e-06" iyz="0.0" izz="1.35e-07" />
        </inertial>
    </link>
    <joint name="plate_1_joint" type="fixed">
        <parent link="stack_link" />
        <child link="plate_1_link" />
        <origin rpy="0 0 0" xyz="0 0 0.138" />
    </joint>
    <link name="plate_1_link">
        <visual>
            <origin rpy="0 0 0" xyz="0 0 0" />
            <geometry>
                <mesh filename="package://jupiterobot2_description/meshes/stacks/plate_1.stl" scale="0.001 0.001 0.001" />
            </geometry>
            <material name="Black" />
        </visual>
        <collision>
            <origin rpy="0 0 0" xyz="0 0 0.003" />
            <geometry>
                <cylinder length="0.006" radius="0.165" />
            </geometry>
        </collision>
        <inertial>
            <origin xyz="0 0 0.003" rpy="0 0 0" />
            <mass value="0.45" />
            <inertia ixx="0.0030641625" ixy="0.0" ixz="0.0" iyy="0.0030641625" iyz="0.0" izz="0.006125625" />
        </inertial>
    </link>
    <joint name="scan_joint" type="fixed">
        <parent link="plate_1_link" />
        <child link="base_scan" />
        <origin rpy="0 3.14159265359 0" xyz="0 0 -0.04615" />
    </joint>
    <link name="base_scan">
        <visual>
            <origin rpy="0 0 0" xyz="0 0 0" />
            <geometry>
                <mesh filename="package://jupiterobot2_description/meshes/sensors/rplidar.dae" scale="1 1 1" />
            </geometry>
        </visual>
        <collision>
            <origin rpy="0 0 0" xyz="0.01 0 -0.016" />
            <geometry>
                <cylinder length="0.05" radius="0.05" />
            </geometry>
        </collision>
        <inertial>
            <origin xyz="0.01 0 -0.016" rpy="0 0 0" />
            <mass value="0.188" />
            <inertia ixx="0.0001567" ixy="0.0" ixz="0.0" iyy="0.0001567" iyz="0.0" izz="0.000235" />
        </inertial>
    </link>
    <joint name="cables_joint" type="fixed">
        <parent link="plate_1_link" />
        <child link="cables_link" />
        <origin rpy="1.570796326795 0 1.570796326795" xyz="-0.13 0 0" />
    </joint>
    <link name="cables_link">
        <visual>
            <origin rpy="0 0 0" xyz="0 0 0" />
            <geometry>
                <mesh filename="package://jupiterobot2_description/meshes/stacks/cables.stl" scale="0.001 0.001 0.001" />
            </geometry>
            <material name="FlatBlack" />
        </visual>
        <collision>
            <origin rpy="0 0 0" xyz="0 0 0" />
            <geometry>
                <mesh filename="package://jupiterobot2_description/meshes/stacks/cables.stl" scale="0.001 0.001 0.001" />
            </geometry>
        </collision>
        <inertial>
            <mass value="0.1" />
            <origin xyz="0 0 0" rpy="0 0 0" />
            <inertia ixx="0.03" iyy="0.03" izz="0.03" ixy="0.0" ixz="0.0" iyz="0.0" />
        </inertial>
    </link>
    <joint name="pole_300_0_joint" type="fixed">
        <parent link="plate_1_link" />
        <child link="pole_300_0_link" />
        <origin rpy="0 0 0" xyz="0.04 0.14 0.156" />
    </joint>
    <link name="pole_300_0_link">
        <visual>
            <origin rpy="0 0 0" xyz="0 0 0" />
            <geometry>
                <mesh filename="package://jupiterobot2_description/meshes/stacks/pole_300.stl" scale="0.001 0.001 0.001" />
            </geometry>
            <material name="Grey" />
        </visual>
        <collision>
            <origin rpy="0 0 0" xyz="0 0 0" />
            <geometry>
                <cylinder length="0.3" radius="0.005" />
            </geometry>
        </collision>
        <inertial>
            <origin xyz="0 0 0" rpy="0 0 0" />
            <mass value="0.0601" />
            <inertia ixx="0.000451125625" ixy="0.0" ixz="0.0" iyy="0.000451125625" iyz="0.0" izz="7.5125e-07" />
        </inertial>
    </link>
    <joint name="pole_300_1_joint" type="fixed">
        <parent link="plate_1_link" />
        <child link="pole_300_1_link" />
        <origin rpy="0 0 0" xyz="-0.04 0.14 0.156" />
    </joint>
    <link name="pole_300_1_link">
        <visual>
            <origin rpy="0 0 0" xyz="0 0 0" />
            <geometry>
                <mesh filename="package://jupiterobot2_description/meshes/stacks/pole_300.stl" scale="0.001 0.001 0.001" />
            </geometry>
            <material name="Grey" />
        </visual>
        <collision>
            <origin rpy="0 0 0" xyz="0 0 0" />
            <geometry>
                <cylinder length="0.3" radius="0.005" />
            </geometry>
        </collision>
        <inertial>
            <origin xyz="0 0 0" rpy="0 0 0" />
            <mass value="0.0601" />
            <inertia ixx="0.000451125625" ixy="0.0" ixz="0.0" iyy="0.000451125625" iyz="0.0" izz="7.5125e-07" />
        </inertial>
    </link>
    <joint name="pole_300_2_joint" type="fixed">
        <parent link="plate_1_link" />
        <child link="pole_300_2_link" />
        <origin rpy="0 0 0" xyz="-0.04 -0.14 0.156" />
    </joint>
    <link name="pole_300_2_link">
        <visual>
            <origin rpy="0 0 0" xyz="0 0 0" />
            <geometry>
                <mesh filename="package://jupiterobot2_description/meshes/stacks/pole_300.stl" scale="0.001 0.001 0.001" />
            </geometry>
            <material name="Grey" />
        </visual>
        <collision>
            <origin rpy="0 0 0" xyz="0 0 0" />
            <geometry>
                <cylinder length="0.3" radius="0.005" />
            </geometry>
        </collision>
        <inertial>
            <origin xyz="0 0 0" rpy="0 0 0" />
            <mass value="0.0601" />
            <inertia ixx="0.000451125625" ixy="0.0" ixz="0.0" iyy="0.000451125625" iyz="0.0" izz="7.5125e-07" />
        </inertial>
    </link>
    <joint name="pole_300_3_joint" type="fixed">
        <parent link="plate_1_link" />
        <child link="pole_300_3_link" />
        <origin rpy="0 0 0" xyz="0.04 -0.14 0.156" />
    </joint>
    <link name="pole_300_3_link">
        <visual>
            <origin rpy="0 0 0" xyz="0 0 0" />
            <geometry>
                <mesh filename="package://jupiterobot2_description/meshes/stacks/pole_300.stl" scale="0.001 0.001 0.001" />
            </geometry>
            <material name="Grey" />
        </visual>
        <collision>
            <origin rpy="0 0 0" xyz="0 0 0" />
            <geometry>
                <cylinder length="0.3" radius="0.005" />
            </geometry>
        </collision>
        <inertial>
            <origin xyz="0 0 0" rpy="0 0 0" />
            <mass value="0.0601" />
            <inertia ixx="0.000451125625" ixy="0.0" ixz="0.0" iyy="0.000451125625" iyz="0.0" izz="7.5125e-07" />
        </inertial>
    </link>
    <joint name="pipe_300_joint" type="fixed">
        <parent link="plate_1_link" />
        <child link="pipe_300_link" />
        <origin rpy="0 0 0" xyz="-0.13 0 0.156" />
    </joint>
    <link name="pipe_300_link">
        <visual>
            <origin rpy="0 0 0" xyz="0 0 0" />
            <geometry>
                <mesh filename="package://jupiterobot2_description/meshes/stacks/pipe_300.stl" scale="0.001 0.001 0.001" />
            </geometry>
            <material name="FlatBlack" />
        </visual>
        <collision>
            <origin rpy="0 0 0" xyz="0 0 0" />
            <geometry>
                <cylinder length="0.3" radius="0.0125" />
            </geometry>
        </collision>
        <inertial>
            <origin xyz="0 0 0" rpy="0 0 0" />
            <mass value="0.06" />
            <inertia ixx="0.00045234375" ixy="0.0" ixz="0.0" iyy="0.00045234375" iyz="0.0" izz="4.6875e-06" />
        </inertial>
    </link>
    <joint name="plate_2_joint" type="fixed">
        <parent link="plate_1_link" />
        <child link="plate_2_link" />
        <origin rpy="0 0 0" xyz="0 0 0.306" />
    </joint>
    <link name="plate_2_link">
        <visual>
            <origin rpy="0 0 0" xyz="0 0 0" />
            <geometry>
                <mesh filename="package://jupiterobot2_description/meshes/stacks/plate_2.stl" scale="0.001 0.001 0.001" />
            </geometry>
            <material name="Black" />
        </visual>
        <collision>
            <origin rpy="0 0 0" xyz="0 0 0" />
            <geometry>
                <cylinder length="0.006" radius="0.165" />
            </geometry>
        </collision>
        <inertial>
            <origin xyz="0 0 0" rpy="0 0 0" />
            <mass value="0.45" />
            <inertia ixx="0.0030641625" ixy="0.0" ixz="0.0" iyy="0.0030641625" iyz="0.0" izz="0.006125625" />
        </inertial>
    </link>
    <joint name="arrow_joint" type="fixed">
        <parent link="plate_2_link" />
        <child link="arrow_link" />
        <origin rpy="0 0 0" xyz="0 0.036 0.006" />
    </joint>
    <link name="arrow_link">
        <visual>
            <origin rpy="0 0 0" xyz="0 0 0" />
            <geometry>
                <mesh filename="package://jupiterobot2_description/meshes/stacks/arrow.stl" scale="0.001 0.001 0.001" />
            </geometry>
            <material name="White" />
        </visual>
        <collision>
            <origin rpy="0 0 0" xyz="0 0 0" />
            <geometry>
                <mesh filename="package://jupiterobot2_description/meshes/stacks/arrow.stl" scale="0.001 0.001 0.001" />
            </geometry>
        </collision>
        <inertial>
            <mass value="0.1" />
            <origin xyz="0 0 0" rpy="0 0 0" />
            <inertia ixx="0.03" iyy="0.03" izz="0.03" ixy="0.0" ixz="0.0" iyz="0.0" />
        </inertial>
    </link>
    <!-- arm_mount -->
    <joint name="arm_mount_joint" type="fixed">
        <parent link="plate_2_link" />
        <child link="arm_mount_link" />
        <origin rpy="0 0 0" xyz="0.134 0 0.006" />
    </joint>
    <link name="arm_mount_link">
        <visual>
            <origin rpy="0 0 0" xyz="0 0 0" />
            <geometry>
                <mesh filename="package://jupiterobot2_description/meshes/stacks/arm_mount.stl" scale="0.001 0.001 0.001" />
            </geometry>
            <material name="DarkGrey" />
        </visual>
        <collision>
            <origin rpy="0 0 0" xyz="-0.013 0 0.0015" />
            <geometry>
                <box size="0.056 0.064 0.003" />
            </geometry>
        </collision>
        <inertial>
            <origin rpy="0 0 0" xyz="-0.013 0 0.0015" />
            <mass value="0.0071" />
            <inertia ixx="2.42879167e-06" ixy="0" ixz="0" iyy="1.86079167e-06" iyz="0" izz="4.278933e-06" />
        </inertial>
    </link>
    <joint name="pole_200_0_joint" type="fixed">
        <parent link="plate_2_link" />
        <child link="pole_200_0_link" />
        <origin rpy="0 0 0" xyz="-0.05 0.12817 0.106" />
    </joint>
    <link name="pole_200_0_link">
        <visual>
            <origin rpy="0 0 0" xyz="0 0 0" />
            <geometry>
                <mesh filename="package://jupiterobot2_description/meshes/stacks/pole_200.stl" scale="0.001 0.001 0.001" />
            </geometry>
            <material name="Grey" />
        </visual>
        <collision>
            <origin rpy="0 0 0" xyz="0 0 0" />
            <geometry>
                <cylinder length="0.2" radius="0.005" />
            </geometry>
        </collision>
        <inertial>
            <origin xyz="0 0 0" rpy="0 0 0" />
            <mass value="0.0361" />
            <inertia ixx="0.000120559" ixy="0.0" ixz="0.0" iyy="0.000120559" iyz="0.0" izz="4.5125e-07" />
        </inertial>
    </link>
    <joint name="pole_200_1_joint" type="fixed">
        <parent link="plate_2_link" />
        <child link="pole_200_1_link" />
        <origin rpy="0 0 0" xyz="-0.10629 0.09567 0.106" />
    </joint>
    <link name="pole_200_1_link">
        <visual>
            <origin rpy="0 0 0" xyz="0 0 0" />
            <geometry>
                <mesh filename="package://jupiterobot2_description/meshes/stacks/pole_200.stl" scale="0.001 0.001 0.001" />
            </geometry>
            <material name="Grey" />
        </visual>
        <collision>
            <origin rpy="0 0 0" xyz="0 0 0" />
            <geometry>
                <cylinder length="0.2" radius="0.005" />
            </geometry>
        </collision>
        <inertial>
            <origin xyz="0 0 0" rpy="0 0 0" />
            <mass value="0.0361" />
            <inertia ixx="0.000120559" ixy="0.0" ixz="0.0" iyy="0.000120559" iyz="0.0" izz="4.5125e-07" />
        </inertial>
    </link>
    <joint name="pole_200_2_joint" type="fixed">
        <parent link="plate_2_link" />
        <child link="pole_200_2_link" />
        <origin rpy="0 0 0" xyz="-0.10629 -0.09567 0.106" />
    </joint>
    <link name="pole_200_2_link">
        <visual>
            <origin rpy="0 0 0" xyz="0 0 0" />
            <geometry>
                <mesh filename="package://jupiterobot2_description/meshes/stacks/pole_200.stl" scale="0.001 0.001 0.001" />
            </geometry>
            <material name="Grey" />
        </visual>
        <collision>
            <origin rpy="0 0 0" xyz="0 0 0" />
            <geometry>
                <cylinder length="0.2" radius="0.005" />
            </geometry>
        </collision>
        <inertial>
            <origin xyz="0 0 0" rpy="0 0 0" />
            <mass value="0.0361" />
            <inertia ixx="0.000120559" ixy="0.0" ixz="0.0" iyy="0.000120559" iyz="0.0" izz="4.5125e-07" />
        </inertial>
    </link>
    <joint name="pole_200_3_joint" type="fixed">
        <parent link="plate_2_link" />
        <child link="pole_200_3_link" />
        <origin rpy="0 0 0" xyz="-0.05 -0.12817 0.106" />
    </joint>
    <link name="pole_200_3_link">
        <visual>
            <origin rpy="0 0 0" xyz="0 0 0" />
            <geometry>
                <mesh filename="package://jupiterobot2_description/meshes/stacks/pole_200.stl" scale="0.001 0.001 0.001" />
            </geometry>
            <material name="Grey" />
        </visual>
        <collision>
            <origin rpy="0 0 0" xyz="0 0 0" />
            <geometry>
                <cylinder length="0.2" radius="0.005" />
            </geometry>
        </collision>
        <inertial>
            <origin xyz="0 0 0" rpy="0 0 0" />
            <mass value="0.0361" />
            <inertia ixx="0.000120559" ixy="0.0" ixz="0.0" iyy="0.000120559" iyz="0.0" izz="4.5125e-07" />
        </inertial>
    </link>
    <joint name="pipe_200_joint" type="fixed">
        <parent link="plate_2_link" />
        <child link="pipe_200_link" />
        <origin rpy="0 0 0" xyz="-0.13 0 0.106" />
    </joint>
    <link name="pipe_200_link">
        <visual>
            <origin rpy="0 0 0" xyz="0 0 0" />
            <geometry>
                <mesh filename="package://jupiterobot2_description/meshes/stacks/pipe_200.stl" scale="0.001 0.001 0.001" />
            </geometry>
            <material name="FlatBlack" />
        </visual>
        <collision>
            <origin rpy="0 0 0" xyz="0 0 0" />
            <geometry>
                <cylinder length="0.2" radius="0.0125" />
            </geometry>
        </collision>
        <inertial>
            <origin xyz="0 0 0" rpy="0 0 0" />
            <mass value="0.04" />
            <inertia ixx="0.000134896" ixy="0.0" ixz="0.0" iyy="0.000134896" iyz="0.0" izz="3.125e-06" />
        </inertial>
    </link>
    <joint name="plate_3_joint" type="fixed">
        <parent link="plate_2_link" />
        <child link="plate_3_link" />
        <origin rpy="0 0 0" xyz="0 0 0.206" />
    </joint>
    <link name="plate_3_link">
        <visual>
            <origin rpy="0 0 0" xyz="0 0 0" />
            <geometry>
                <mesh filename="package://jupiterobot2_description/meshes/stacks/plate_3.stl" scale="0.001 0.001 0.001" />
            </geometry>
            <material name="Black" />
        </visual>
        <collision>
            <origin rpy="0 0 0" xyz="0 0 0" />
            <geometry>
                <mesh filename="package://jupiterobot2_description/meshes/stacks/plate_3.stl" scale="0.001 0.001 0.001" />
            </geometry>
        </collision>
        <inertial>
            <origin xyz="-0.08 0 0.003" rpy="0 0 0" />
            <!--0.16*0.27*0.006-->
            <mass value="0.152" />
            <inertia ixx="0.000923856" ixy="0.0" ixz="0.0" iyy="0.0003247227" iyz="0.0" izz="0.001247667" />
        </inertial>
    </link>
    <joint name="mic_joint" type="fixed">
        <parent link="plate_3_link" />
        <child link="mic_link" />
        <origin rpy="0 0 0" xyz="0 -0.13466 0.006" />
    </joint>
    <link name="mic_link">
        <visual>
            <origin rpy="0 0 0" xyz="0 0 0" />
            <geometry>
                <mesh filename="package://jupiterobot2_description/meshes/stacks/microphone.stl" scale="0.001 0.001 0.001" />
            </geometry>
            <material name="DarkGrey" />
        </visual>
        <collision>
            <origin rpy="0 0 0" xyz="0 0 0" />
            <geometry>
                <mesh filename="package://jupiterobot2_description/meshes/stacks/microphone.stl" scale="0.001 0.001 0.001" />
            </geometry>
        </collision>
        <inertial>
            <origin xyz="-0.02 0 0.03" rpy="0 0 0" />
            <!--0.04*0.03*0.06-->
            <mass value="0.21" />
            <inertia ixx="7.875e-05" ixy="0.0" ixz="0.0" iyy="9.1e-05" iyz="0.0" izz="4.375e-05" />
        </inertial>
    </link>
    <joint name="estop_joint" type="fixed">
        <parent link="plate_3_link" />
        <child link="estop_link" />
        <origin rpy="0 0 0" xyz="0 0.13466 -0.0381" />
    </joint>
    <link name="estop_link">
        <visual>
            <origin rpy="0 0 0" xyz="0 0 0" />
            <geometry>
                <mesh filename="package://jupiterobot2_description/meshes/stacks/e_stop.stl" scale="0.001 0.001 0.001" />
            </geometry>
            <material name="DarkGrey" />
        </visual>
        <collision>
            <origin rpy="0 0 0" xyz="0 0 0" />
            <geometry>
                <mesh filename="package://jupiterobot2_description/meshes/stacks/e_stop.stl" scale="0.001 0.001 0.001" />
            </geometry>
        </collision>
        <inertial>
            <origin xyz="0 0 0.038" rpy="0 0 0" />
            <!--R0.018*0.0685-->
            <mass value="0.0763" />
            <inertia ixx="3.60151896e-05" ixy="0.0" ixz="0.0" iyy="3.60151896e-05" iyz="0.0" izz="1.23606e-05" />
        </inertial>
    </link>
    <joint name="pole_80_0_joint" type="fixed">
        <parent link="plate_3_link" />
        <child link="pole_80_0_link" />
        <origin rpy="0 0 0" xyz="-0.115 0.05 0.046" />
    </joint>
    <link name="pole_80_0_link">
        <visual>
            <origin rpy="0 0 0" xyz="0 0 0" />
            <geometry>
                <mesh filename="package://jupiterobot2_description/meshes/stacks/pole_80.stl" scale="0.001 0.001 0.001" />
            </geometry>
            <material name="Grey" />
        </visual>
        <collision>
            <origin rpy="0 0 0" xyz="0 0 0" />
            <geometry>
                <cylinder length="0.08" radius="0.005" />
            </geometry>
        </collision>
        <inertial>
            <origin xyz="0 0 0" rpy="0 0 0" />
            <mass value="0.0145" />
            <inertia ixx="7.82395833e-06" ixy="0.0" ixz="0.0" iyy="7.82395833e-06" iyz="0.0" izz="1.8125e-07" />
        </inertial>
    </link>
    <joint name="pole_80_1_joint" type="fixed">
        <parent link="plate_3_link" />
        <child link="pole_80_1_link" />
        <origin rpy="0 0 0" xyz="-0.115 -0.05 0.046" />
    </joint>
    <link name="pole_80_1_link">
        <visual>
            <origin rpy="0 0 0" xyz="0 0 0" />
            <geometry>
                <mesh filename="package://jupiterobot2_description/meshes/stacks/pole_80.stl" scale="0.001 0.001 0.001" />
            </geometry>
            <material name="Grey" />
        </visual>
        <collision>
            <origin rpy="0 0 0" xyz="0 0 0" />
            <geometry>
                <cylinder length="0.08" radius="0.005" />
            </geometry>
        </collision>
        <inertial>
            <origin xyz="0 0 0" rpy="0 0 0" />
            <mass value="0.0145" />
            <inertia ixx="7.82395833e-06" ixy="0.0" ixz="0.0" iyy="7.82395833e-06" iyz="0.0" izz="1.8125e-07" />
        </inertial>
    </link>
    <joint name="monitor_frame_1_joint" type="fixed">
        <parent link="plate_3_link" />
        <child link="monitor_frame_1_link" />
        <origin rpy="0 0 0" xyz="-0.115 0 0.0935" />
    </joint>
    <link name="monitor_frame_1_link">
        <visual>
            <origin rpy="0 0 0" xyz="0 0 0" />
            <geometry>
                <mesh filename="package://jupiterobot2_description/meshes/stacks/monitor_frame.stl" scale="0.001 0.001 0.001" />
            </geometry>
            <material name="DarkGrey" />
        </visual>
        <collision>
            <origin rpy="0 0 0" xyz="0 0 0" />
            <geometry>
                <mesh filename="package://jupiterobot2_description/meshes/stacks/monitor_frame.stl" scale="0.001 0.001 0.001" />
            </geometry>
        </collision>
        <inertial>
            <origin xyz="0 0 0" rpy="0 0 0" />
            <!--0.012*0.112*0.015-->
            <mass value="0.0136" />
            <inertia ixx="1.4471533e-05" ixy="0.0" ixz="0.0" iyy="4.182e-07" iyz="0.0" izz="1.4379733e-05" />
        </inertial>
    </link>
    <joint name="pole_60_4_joint" type="fixed">
        <parent link="pole_80_0_link" />
        <child link="pole_60_4_link" />
        <origin rpy="0 0 0" xyz="0 0 0.085" />
    </joint>
    <link name="pole_60_4_link">
        <visual>
            <origin rpy="0 0 0" xyz="0 0 0" />
            <geometry>
                <mesh filename="package://jupiterobot2_description/meshes/stacks/pole_60.stl" scale="0.001 0.001 0.001" />
            </geometry>
            <material name="Grey" />
        </visual>
        <collision>
            <origin rpy="0 0 0" xyz="0 0 0" />
            <geometry>
                <cylinder length="0.06" radius="0.005" />
            </geometry>
        </collision>
        <inertial>
            <origin xyz="0 0 0" rpy="0 0 0" />
            <mass value="0.0108" />
            <inertia ixx="3.3075e-06" ixy="0.0" ixz="0.0" iyy="3.3075e-06" iyz="0.0" izz="1.35e-07" />
        </inertial>
    </link>
    <joint name="pole_60_5_joint" type="fixed">
        <parent link="pole_80_1_link" />
        <child link="pole_60_5_link" />
        <origin rpy="0 0 0" xyz="0 0 0.085" />
    </joint>
    <link name="pole_60_5_link">
        <visual>
            <origin rpy="0 0 0" xyz="0 0 0" />
            <geometry>
                <mesh filename="package://jupiterobot2_description/meshes/stacks/pole_60.stl" scale="0.001 0.001 0.001" />
            </geometry>
            <material name="Grey" />
        </visual>
        <collision>
            <origin rpy="0 0 0" xyz="0 0 0" />
            <geometry>
                <cylinder length="0.06" radius="0.005" />
            </geometry>
        </collision>
        <inertial>
            <origin xyz="0 0 0" rpy="0 0 0" />
            <mass value="0.0108" />
            <inertia ixx="3.3075e-06" ixy="0.0" ixz="0.0" iyy="3.3075e-06" iyz="0.0" izz="1.35e-07" />
        </inertial>
    </link>
    <joint name="monitor_frame_2_joint" type="fixed">
        <parent link="monitor_frame_1_link" />
        <child link="monitor_frame_2_link" />
        <origin rpy="0 0 0" xyz="0 0 0.075" />
    </joint>
    <link name="monitor_frame_2_link">
        <visual>
            <origin rpy="0 0 0" xyz="0 0 0" />
            <geometry>
                <mesh filename="package://jupiterobot2_description/meshes/stacks/monitor_frame.stl" scale="0.001 0.001 0.001" />
            </geometry>
            <material name="DarkGrey" />
        </visual>
        <collision>
            <origin rpy="0 0 0" xyz="0 0 0" />
            <geometry>
                <mesh filename="package://jupiterobot2_description/meshes/stacks/monitor_frame.stl" scale="0.001 0.001 0.001" />
            </geometry>
        </collision>
        <inertial>
            <origin xyz="0 0 0" rpy="0 0 0" />
            <!--0.012*0.112*0.015-->
            <mass value="0.0136" />
            <inertia ixx="1.4471533e-05" ixy="0.0" ixz="0.0" iyy="4.182e-07" iyz="0.0" izz="1.4379733e-05" />
        </inertial>
    </link>
    <joint name="pole_40_0_joint" type="fixed">
        <parent link="pole_60_4_link" />
        <child link="pole_40_0_link" />
        <origin rpy="0 0 0" xyz="0 0 0.065" />
    </joint>
    <link name="pole_40_0_link">
        <visual>
            <origin rpy="0 0 0" xyz="0 0 0" />
            <geometry>
                <mesh filename="package://jupiterobot2_description/meshes/stacks/pole_40.stl" scale="0.001 0.001 0.001" />
            </geometry>
            <material name="Grey" />
        </visual>
        <collision>
            <origin rpy="0 0 0" xyz="0 0 0" />
            <geometry>
                <cylinder length="0.04" radius="0.005" />
            </geometry>
        </collision>
        <inertial>
            <origin xyz="0 0 0" rpy="0 0 0" />
            <mass value="0.007" />
            <inertia ixx="9.91041667e-07" ixy="0.0" ixz="0.0" iyy="9.91041667e-07" iyz="0.0" izz="8.875e-08" />
        </inertial>
    </link>
    <joint name="pole_40_1_joint" type="fixed">
        <parent link="pole_60_5_link" />
        <child link="pole_40_1_link" />
        <origin rpy="0 0 0" xyz="0 0 0.065" />
    </joint>
    <link name="pole_40_1_link">
        <visual>
            <origin rpy="0 0 0" xyz="0 0 0" />
            <geometry>
                <mesh filename="package://jupiterobot2_description/meshes/stacks/pole_40.stl" scale="0.001 0.001 0.001" />
            </geometry>
            <material name="Grey" />
        </visual>
        <collision>
            <origin rpy="0 0 0" xyz="0 0 0" />
            <geometry>
                <cylinder length="0.04" radius="0.005" />
            </geometry>
        </collision>
        <inertial>
            <origin xyz="0 0 0" rpy="0 0 0" />
            <mass value="0.007" />
            <inertia ixx="9.91041667e-07" ixy="0.0" ixz="0.0" iyy="9.91041667e-07" iyz="0.0" izz="8.875e-08" />
        </inertial>
    </link>
    <!-- head_mount -->
    <joint name="head_mount_joint" type="fixed">
        <parent link="monitor_frame_2_link" />
        <child link="head_mount_link" />
        <origin rpy="0 0 0" xyz="0 0 0.0475" />
    </joint>
    <link name="head_mount_link">
        <visual>
            <origin rpy="0 0 0" xyz="0 0 0" />
            <geometry>
                <mesh filename="package://jupiterobot2_description/meshes/stacks/head_mount.stl" scale="0.001 0.001 0.001" />
            </geometry>
            <material name="DarkGrey" />
        </visual>
        <collision>
            <origin rpy="0 0 0" xyz="0 0 0.012" />
            <geometry>
                <box size="0.05 0.13 0.024" />
            </geometry>
        </collision>
        <inertial>
            <origin rpy="0 0 0" xyz="0 0 0.005" />
            <!--0.04*0.12*0.01-->
            <mass value="0.0205" />
            <inertia ixx="2.4770833e-05" ixy="0" ixz="0" iyy="2.9041667e-06" iyz="0" izz="2.7333e-05" />
        </inertial>
    </link>
    <joint name="monitor_joint" type="fixed">
        <parent link="monitor_frame_2_link" />
        <child link="monitor_link" />
        <origin rpy="0 0 0" xyz="0.0405 0 -0.046" />
    </joint>
    <link name="monitor_link">
        <visual>
            <origin rpy="0 0 0" xyz="0 0 0" />
            <geometry>
                <mesh filename="package://jupiterobot2_description/meshes/stacks/monitor.stl" scale="0.001 0.001 0.001" />
            </geometry>
            <material name="FlatBlack" />
        </visual>
        <collision>
            <origin rpy="0 0 0" xyz="0 0 0" />
            <geometry>
                <mesh filename="package://jupiterobot2_description/meshes/stacks/monitor.stl" scale="0.001 0.001 0.001" />
            </geometry>
        </collision>
        <inertial>
            <origin xyz="-0.013 0 0.005" rpy="0 0 0" />
            <!--0.026*0.2465*0.167-->
            <mass value="0.48" />
            <inertia ixx="0.00354605" ixy="0.0" ixz="0.0" iyy="0.0011426" iyz="0.0" izz="0.00245753" />
        </inertial>
    </link>
    <joint name="screen_joint" type="fixed">
        <parent link="monitor_link" />
        <child link="screen_link" />
        <origin rpy="0 0 0" xyz="-0.0025 0 0" />
    </joint>
    <link name="screen_link">
        <visual>
            <origin rpy="0 0 0" xyz="0 0 0" />
            <geometry>
                <mesh filename="package://jupiterobot2_description/meshes/stacks/screen.stl" scale="0.001 0.001 0.001" />
            </geometry>
            <material name="White" />
        </visual>
        <collision>
            <origin rpy="0 0 0" xyz="0 0 0" />
            <geometry>
                <mesh filename="package://jupiterobot2_description/meshes/stacks/screen.stl" scale="0.001 0.001 0.001" />
            </geometry>
        </collision>
        <inertial>
            <mass value="0.1" />
            <origin xyz="0 0 0" rpy="0 0 0" />
            <inertia ixx="0.03" iyy="0.03" izz="0.03" ixy="0.0" ixz="0.0" iyz="0.0" />
        </inertial>
    </link>
    <transmission name="trans_gripper_link_joint">
        <type>transmission_interface/SimpleTransmission</type>
        <joint name="gripper_link_joint">
            <hardwareInterface>hardware_interface/EffortJointInterface</hardwareInterface>
        </joint>
        <actuator name="gripper_link_joint_motor">
            <hardwareInterface>hardware_interface/EffortJointInterface</hardwareInterface>
            <mechanicalReduction>1</mechanicalReduction>
        </actuator>
    </transmission>
    <transmission name="trans_wheel_left_joint">
        <type>transmission_interface/SimpleTransmission</type>
        <joint name="wheel_left_joint">
            <hardwareInterface>hardware_interface/EffortJointInterface</hardwareInterface>
        </joint>
        <actuator name="wheel_left_joint_motor">
            <hardwareInterface>hardware_interface/EffortJointInterface</hardwareInterface>
            <mechanicalReduction>1</mechanicalReduction>
        </actuator>
    </transmission>
    <transmission name="trans_wheel_right_joint">
        <type>transmission_interface/SimpleTransmission</type>
        <joint name="wheel_right_joint">
            <hardwareInterface>hardware_interface/EffortJointInterface</hardwareInterface>
        </joint>
        <actuator name="wheel_right_joint_motor">
            <hardwareInterface>hardware_interface/EffortJointInterface</hardwareInterface>
            <mechanicalReduction>1</mechanicalReduction>
        </actuator>
    </transmission>
</robot>
